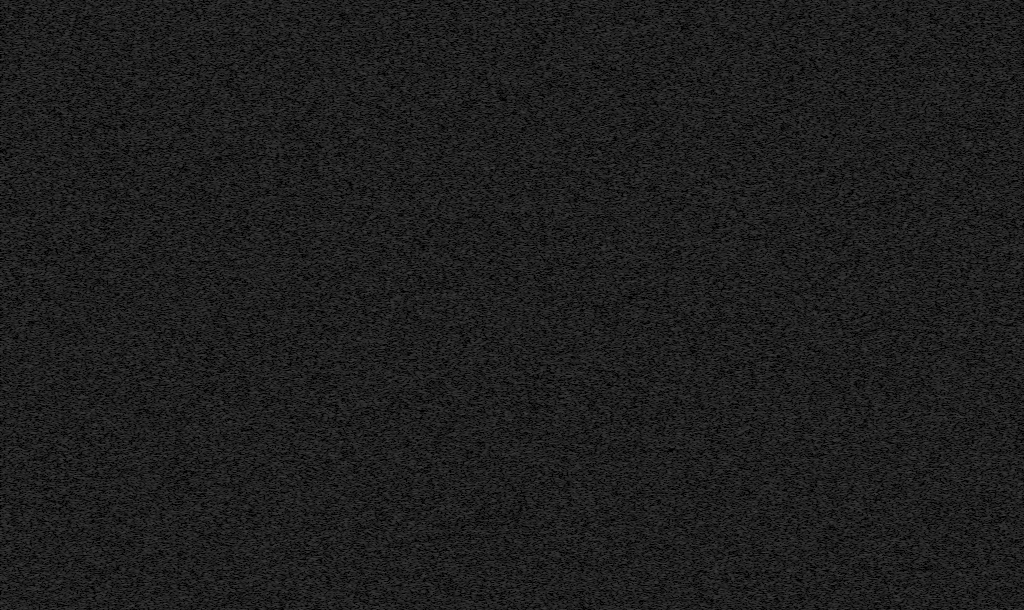wv_lsb: (877, 9, 890, 610), (764, 362, 770, 463), (765, 80, 770, 162), (765, 167, 770, 226), (764, 465, 769, 503), (764, 316, 769, 351), (764, 590, 771, 610), (765, 550, 769, 581), (766, 58, 769, 78), (764, 537, 769, 549), (764, 524, 769, 536), (765, 511, 769, 523), (765, 352, 769, 361), (764, 582, 769, 589), (766, 22, 769, 33), (766, 37, 769, 46), (766, 250, 769, 258), (765, 505, 769, 510), (766, 50, 769, 56), (766, 14, 769, 19)
wv_usb: (152, 148, 157, 348), (152, 465, 157, 610), (152, 349, 157, 464), (152, 14, 157, 86), (450, 584, 454, 610), (450, 422, 454, 445), (450, 475, 454, 490), (450, 449, 454, 464), (450, 499, 453, 515), (450, 566, 453, 580), (450, 239, 453, 252), (450, 340, 453, 352), (450, 409, 453, 420), (450, 293, 453, 303), (450, 530, 453, 538), (153, 89, 156, 96), (450, 553, 453, 559), (450, 261, 453, 267), (153, 133, 156, 139), (153, 112, 156, 118), (450, 273, 453, 278), (153, 119, 156, 123), (153, 97, 157, 100), (450, 491, 453, 494), (153, 141, 156, 144), (153, 127, 156, 130), (153, 105, 156, 108)
